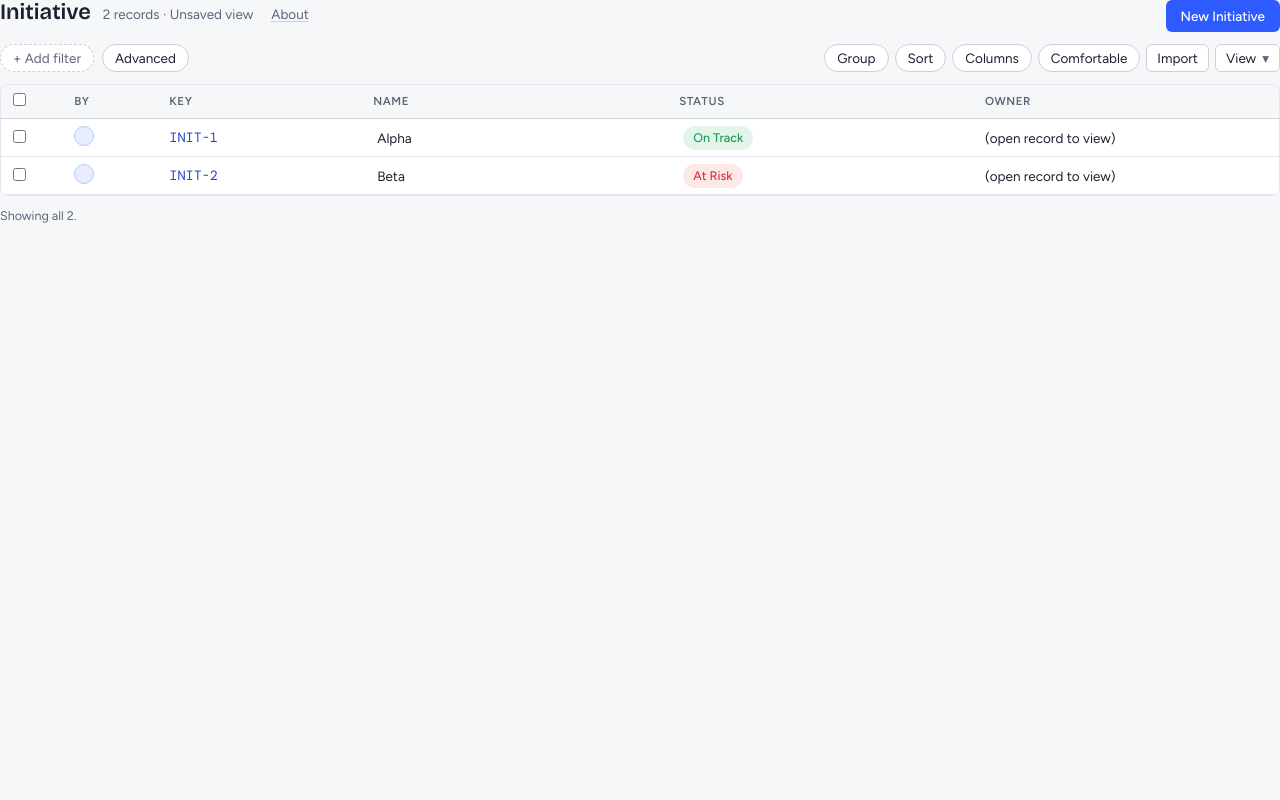
TableView: inline cell editing › opens a side-by-side merge dialog on a 409 and resubmits with expected_version from current_version
Click the button "On Track" at (718, 138), box [679, 124, 961, 152]
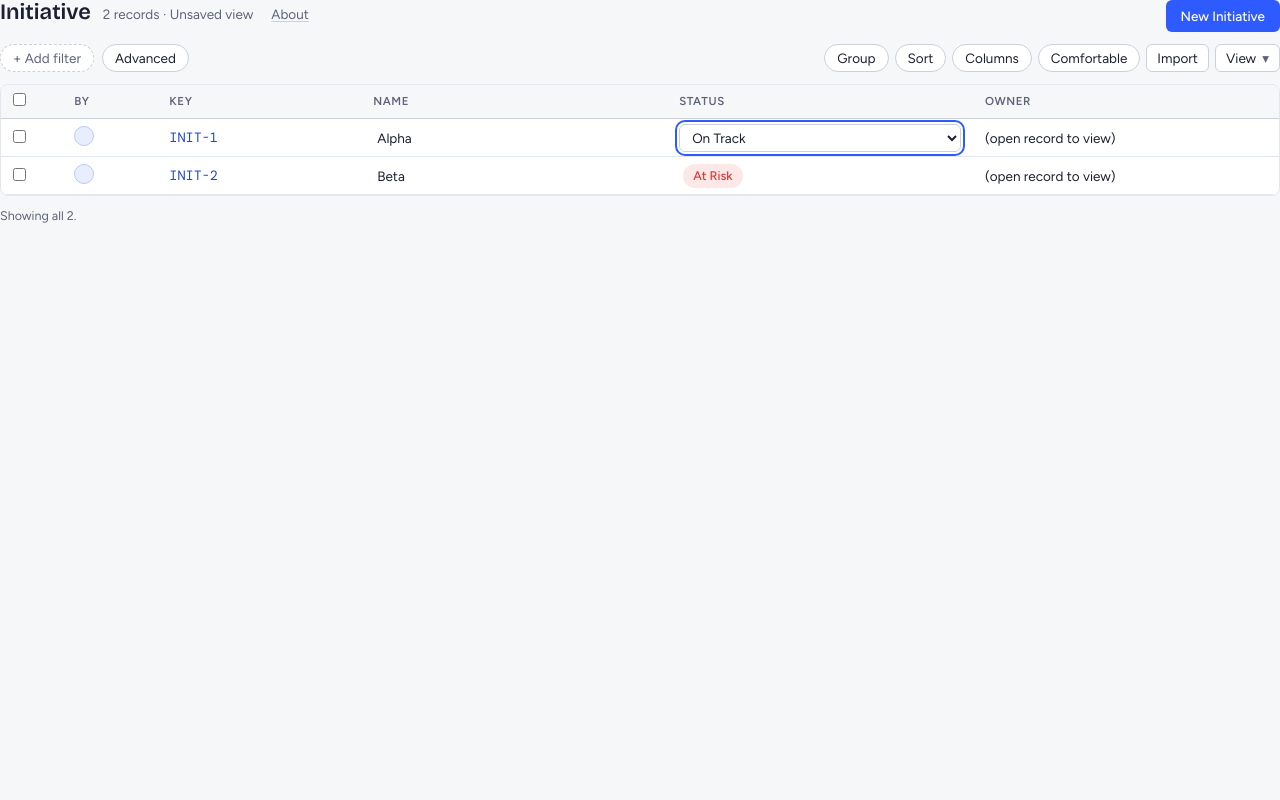
Select "On Track" in the dropdown named "Status value for INIT-1" at (820, 138), box [679, 124, 961, 152]
Press Tab
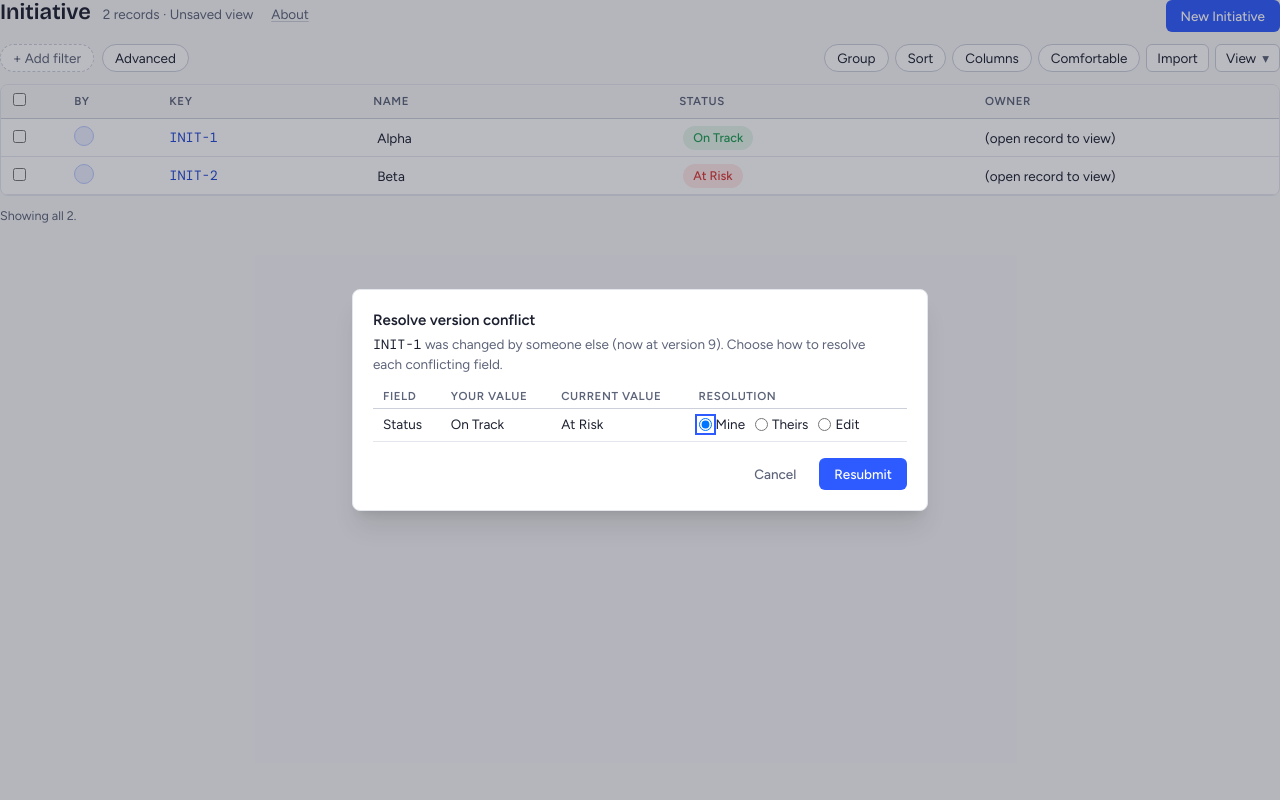
expect the row with test id "conflict-field-status" is shown: met, box [373, 409, 907, 442]
expect the text "On Track" is shown: met, box [441, 409, 551, 442]
expect the text "At Risk" is shown: met, box [551, 409, 688, 442]
Click the radio button labelled "Theirs" at (762, 424), box [755, 418, 768, 431]
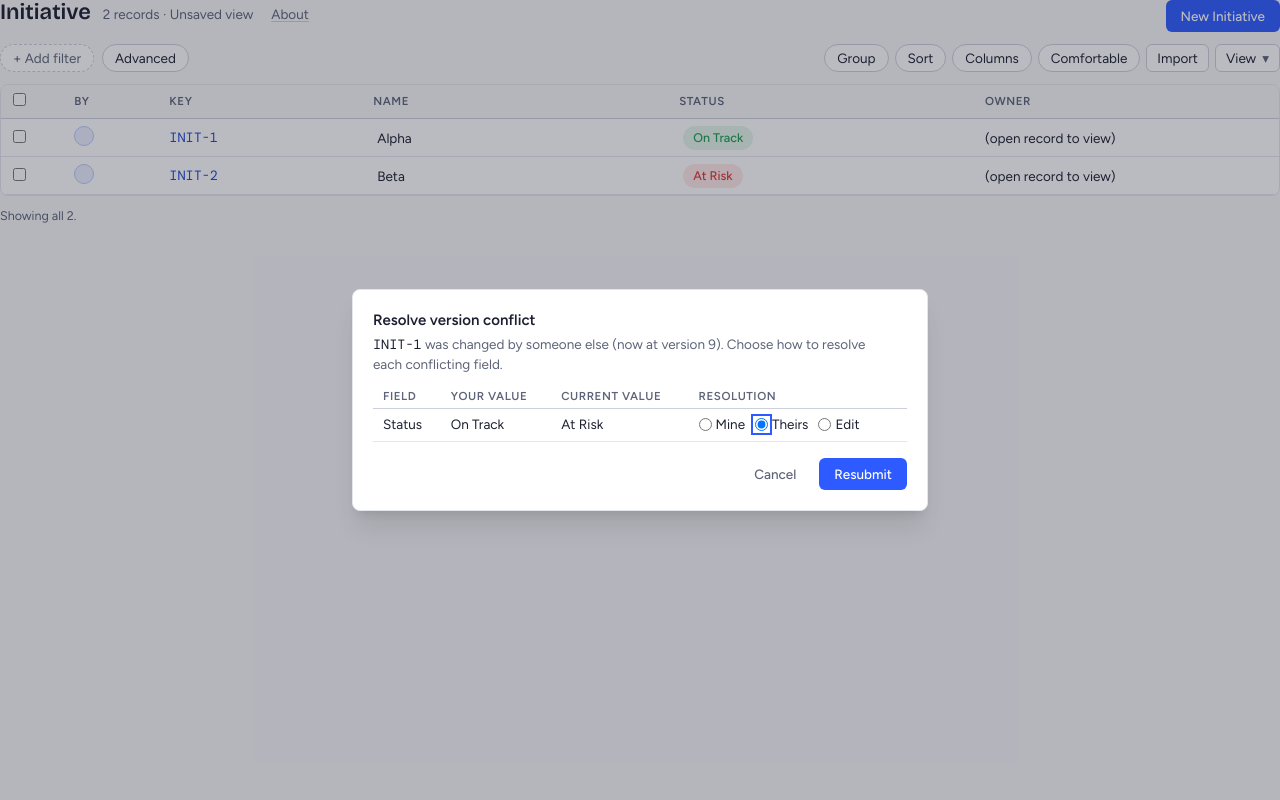
Click the button "Resubmit" at (863, 474), box [819, 458, 907, 490]
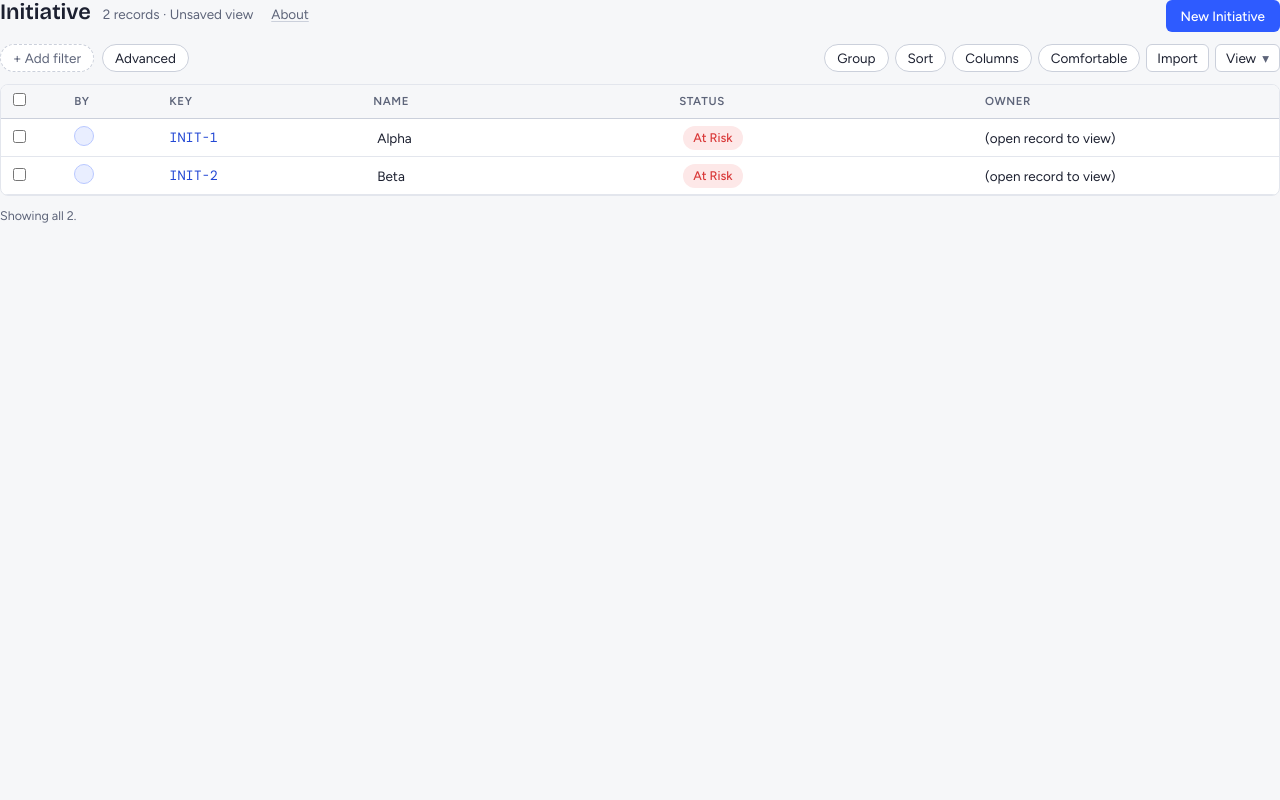
expect the dialog with test id "merge-conflict-dialog" is gone: met
